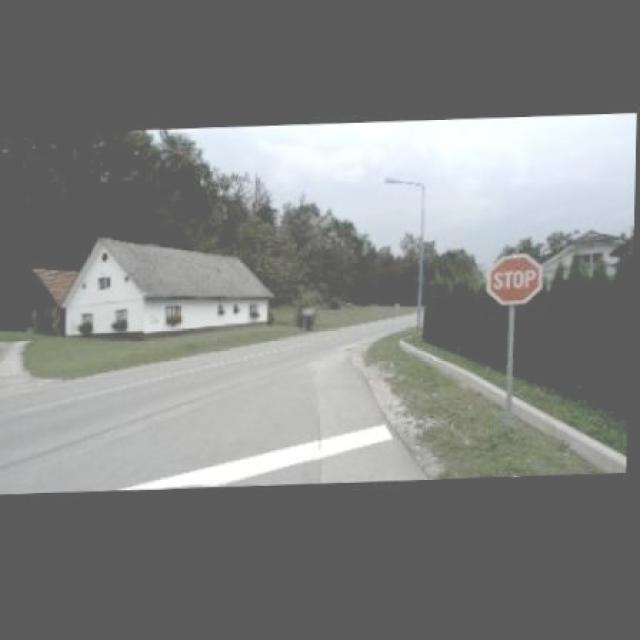stop_sign: (486, 257, 544, 310)
